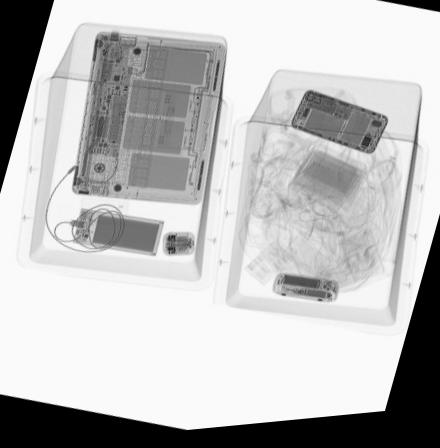Powerbank: (72, 210, 166, 258)
